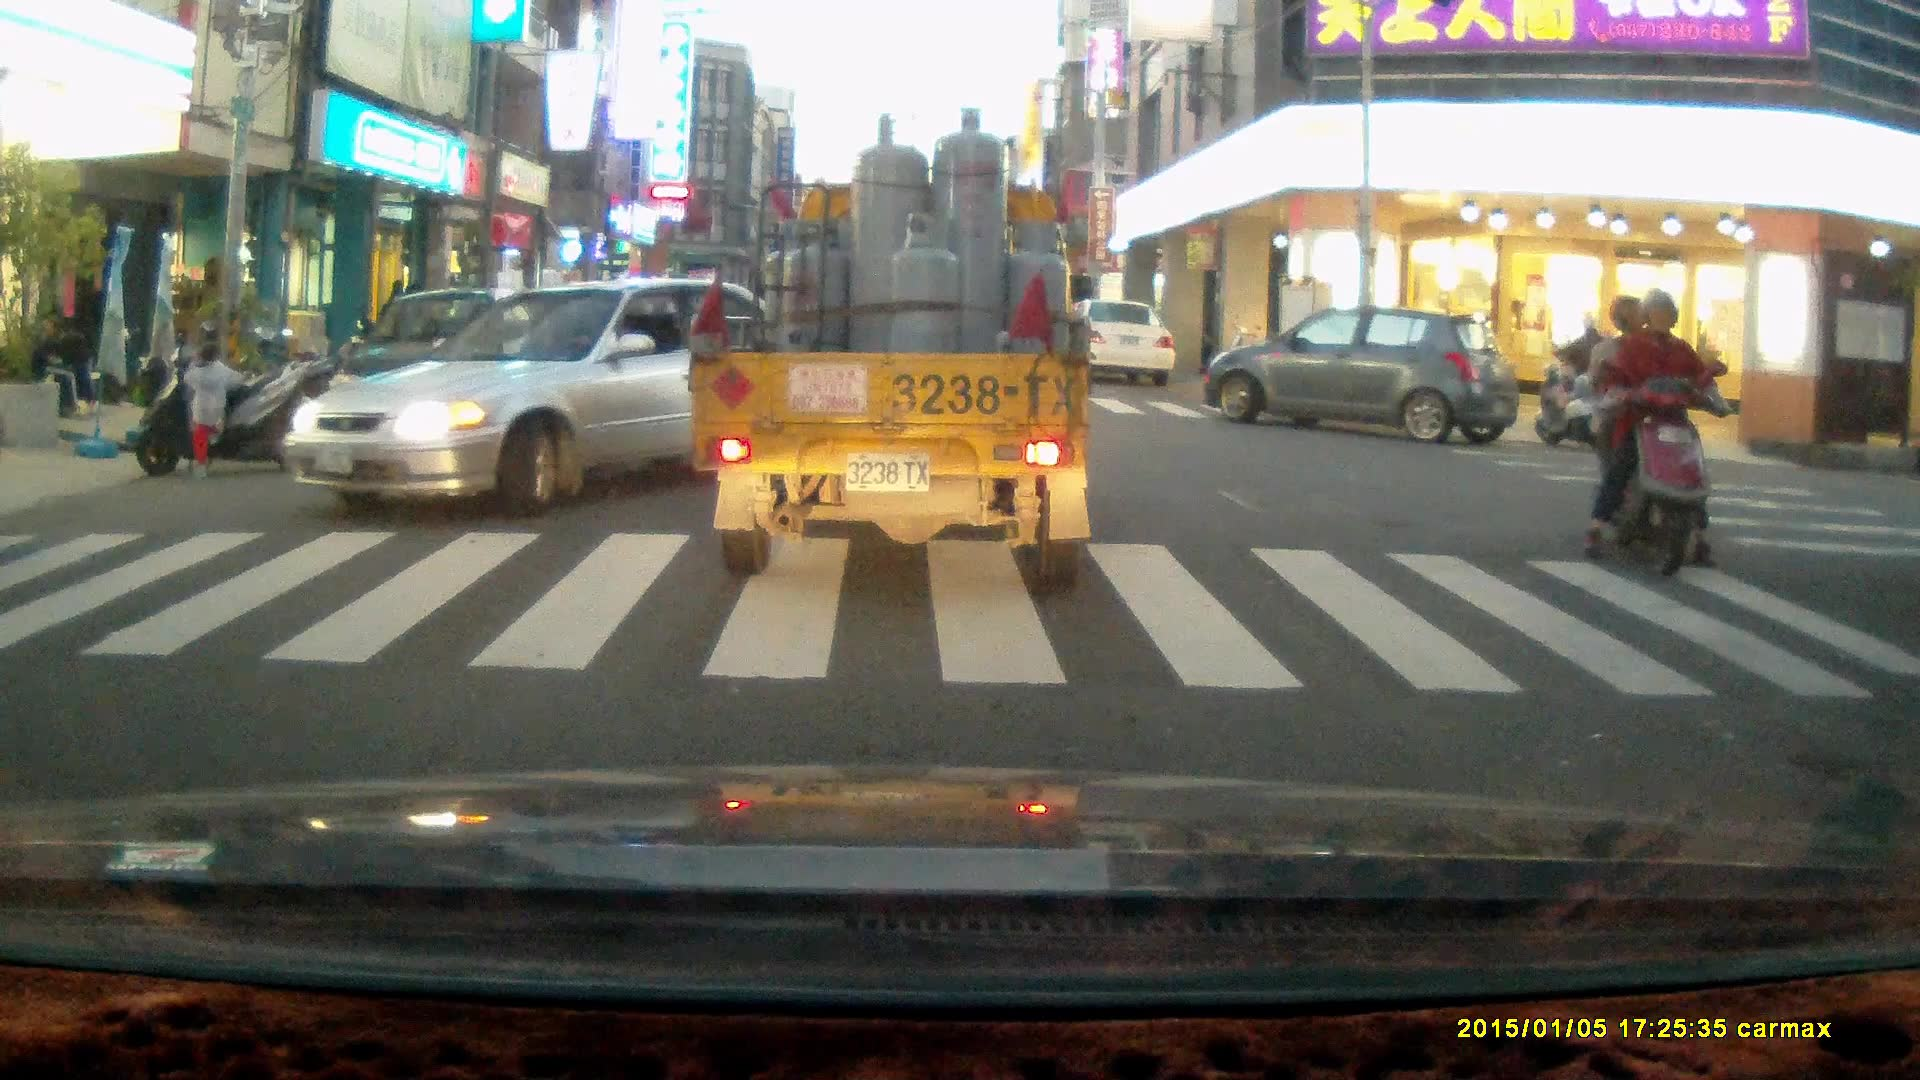pedestrian: (181, 342, 248, 480)
rider: (1576, 287, 1727, 577), (1547, 308, 1628, 432)
vehicle: (683, 107, 1090, 595), (287, 277, 837, 520), (1202, 307, 1514, 445), (322, 287, 552, 441), (1061, 299, 1182, 382)
